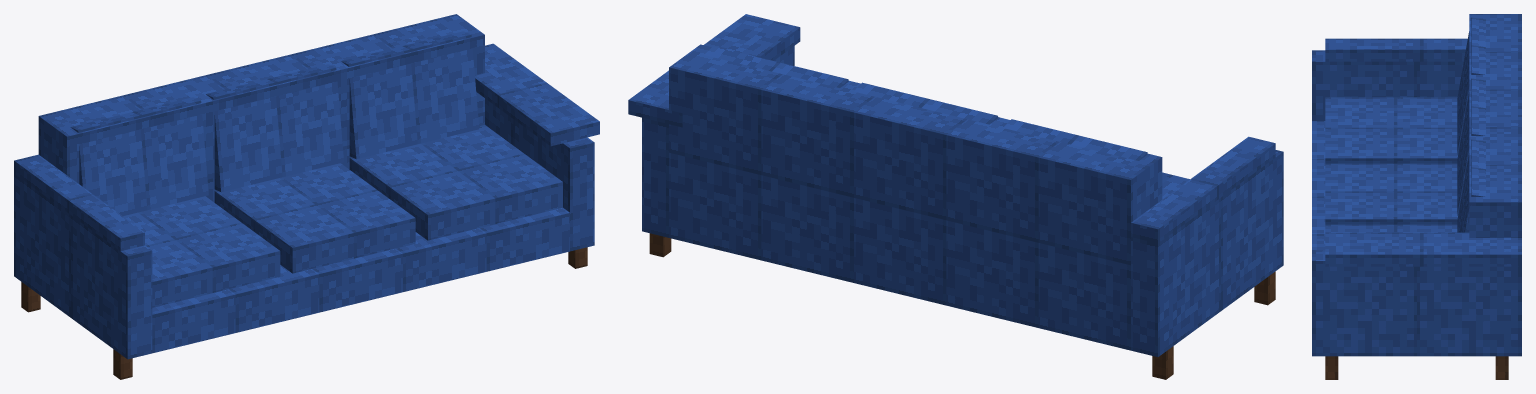
The model's file is loungeCouchWide_3.glb.
The picture shows the model from 3 angles, left to right: view 1: azimuth 30°, elevation 25°; view 2: azimuth 150°, elevation 25°; view 3: azimuth 270°, elevation 25°; orthographic projection. The views are drawn at different scales.
Parts seen in each view (by area): view 1: loungeCouchWide_3; view 2: loungeCouchWide_3; view 3: loungeCouchWide_3.
Boxes of the visible parts, x1,y1,x2,y2 form: loungeCouchWide_3: [14, 14, 599, 379]; loungeCouchWide_3: [628, 14, 1283, 379]; loungeCouchWide_3: [1312, 14, 1521, 379].
Size of the model in its own units: 2.44 by 0.886 by 1.
Materials: 1 (1 with a texture image).
